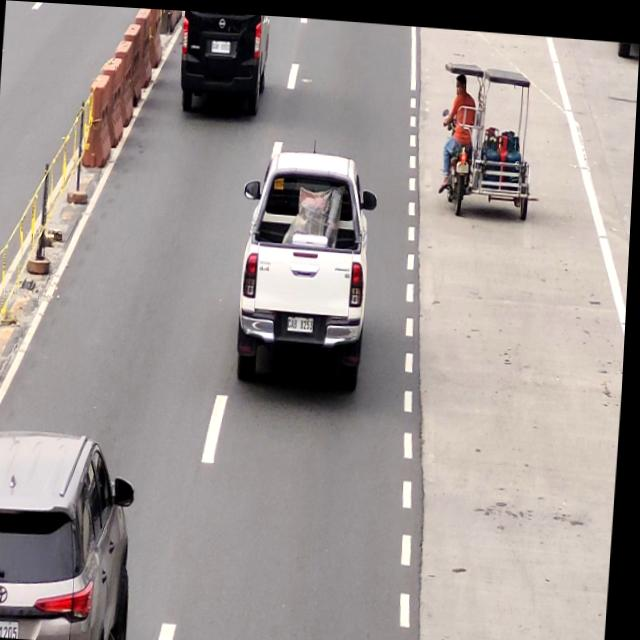Car: (236, 145, 376, 391), (0, 418, 144, 640), (174, 8, 270, 112)
License-Plate: (290, 310, 318, 329), (0, 617, 25, 638), (211, 37, 231, 51)
Tricycle: (436, 56, 541, 217)
